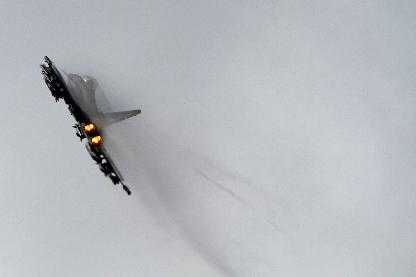E2: (38, 56, 140, 195)
